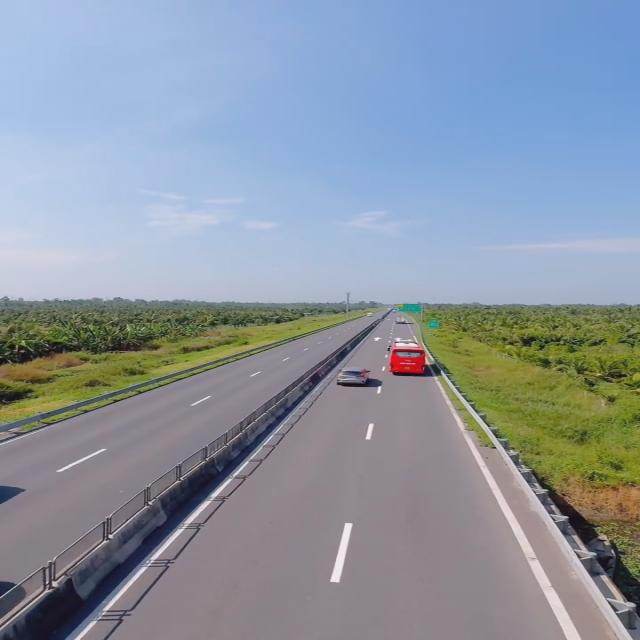bus: (382, 342, 430, 377)
car: (329, 363, 375, 387)
